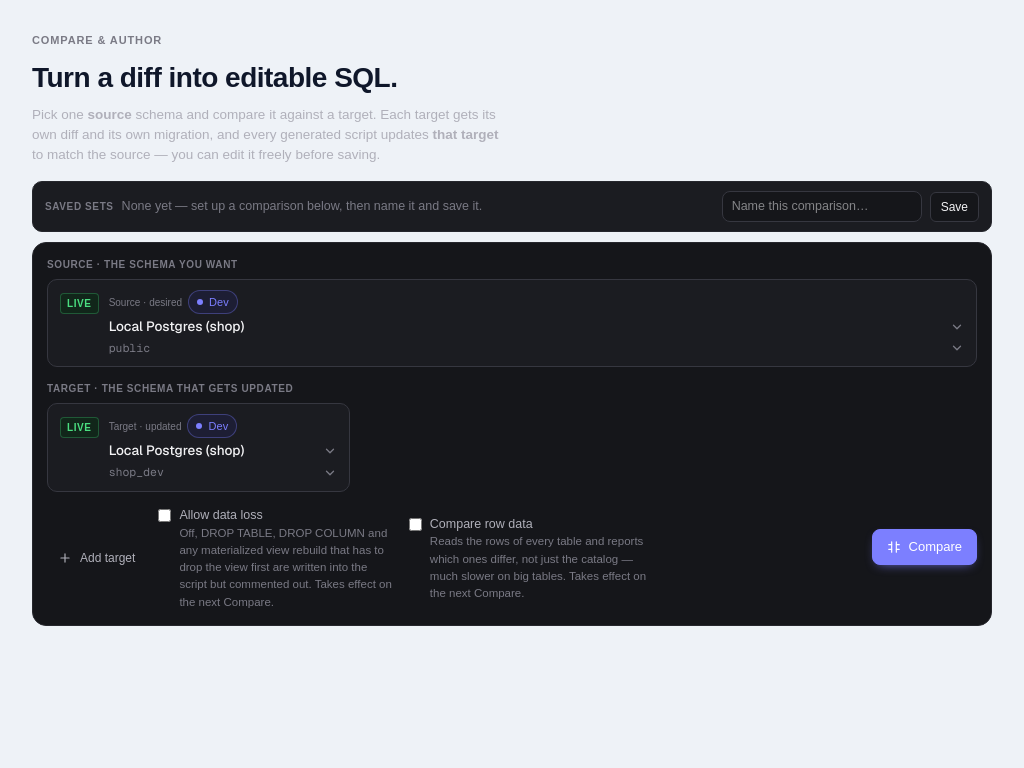
Test: the picker's schema list › ignores the list for a connection the reader has moved off
Click the dropdown named "Target · updated connection" at (223, 451), box [109,442,337,461]
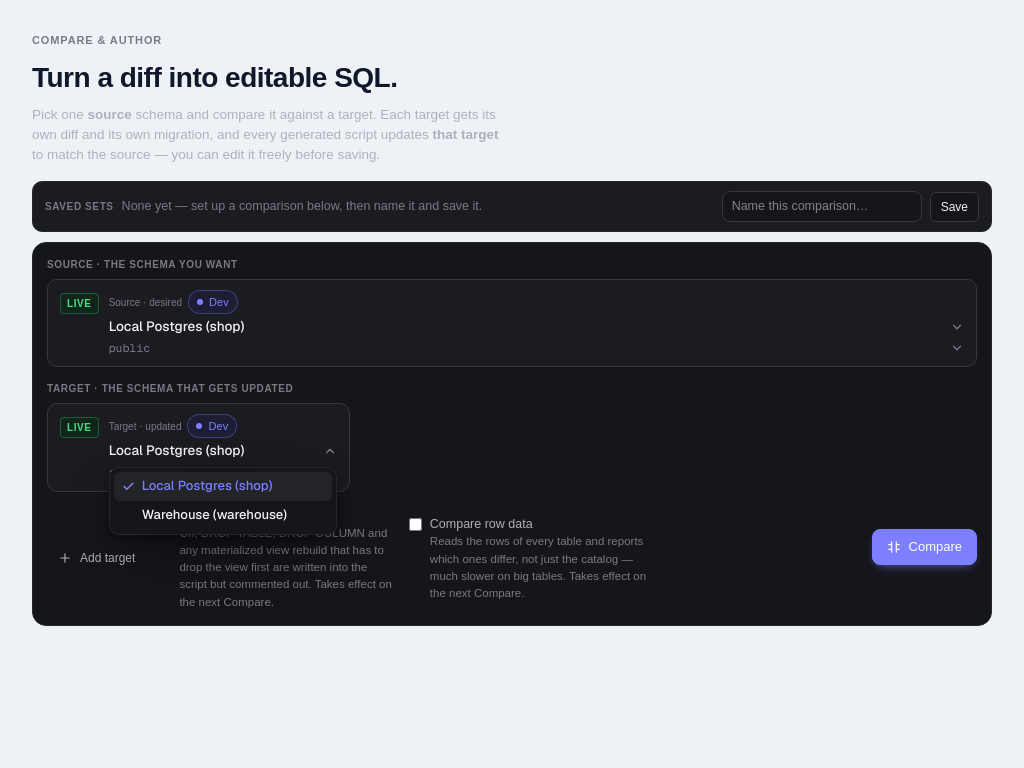
Click the option "Warehouse (warehouse)" at (214, 514), box [142,506,287,523]
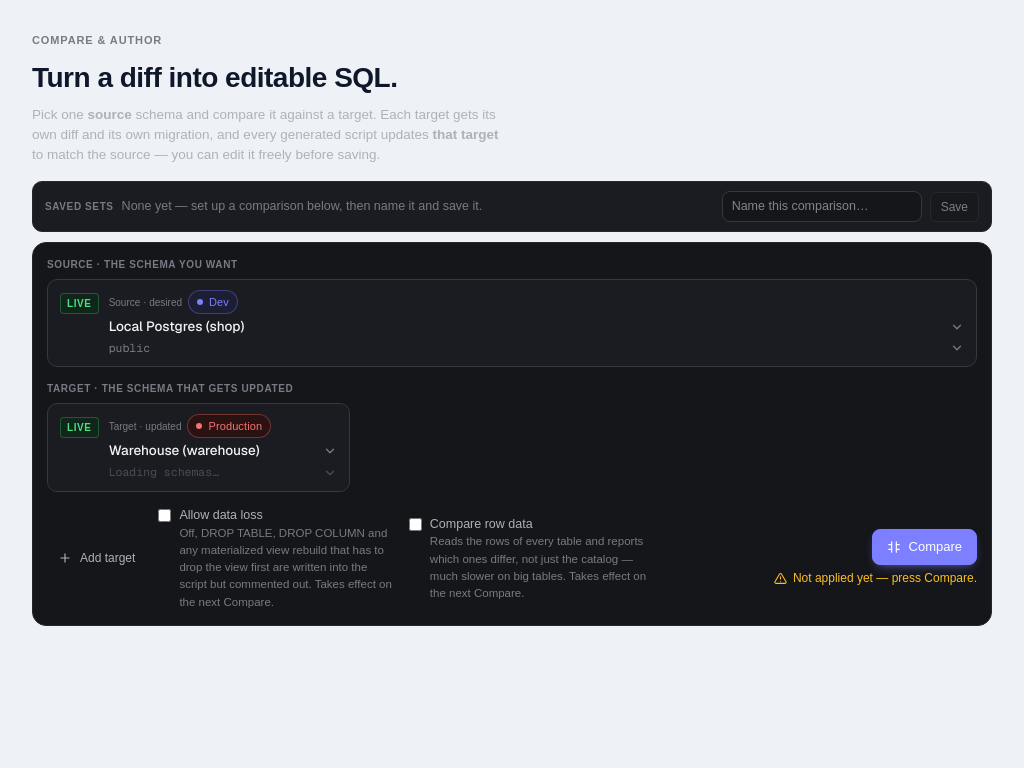
Click the dropdown named "Target · updated connection" at (223, 451), box [109,442,337,461]
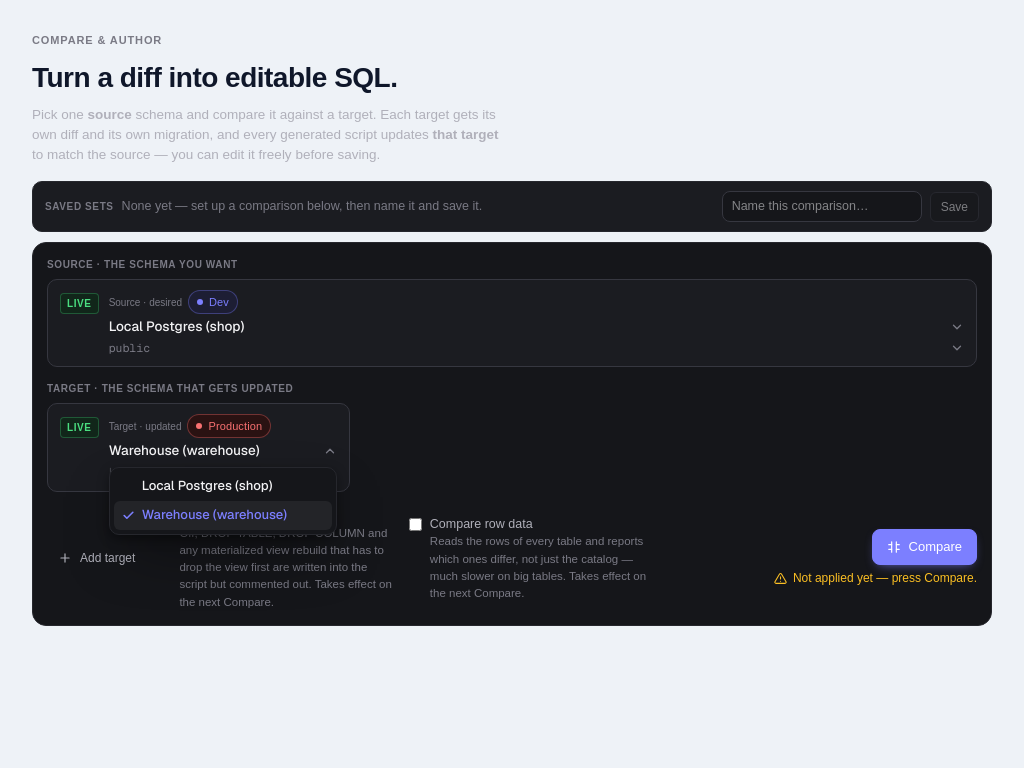
Click the option "Local Postgres (shop)" at (207, 486), box [142,477,272,494]
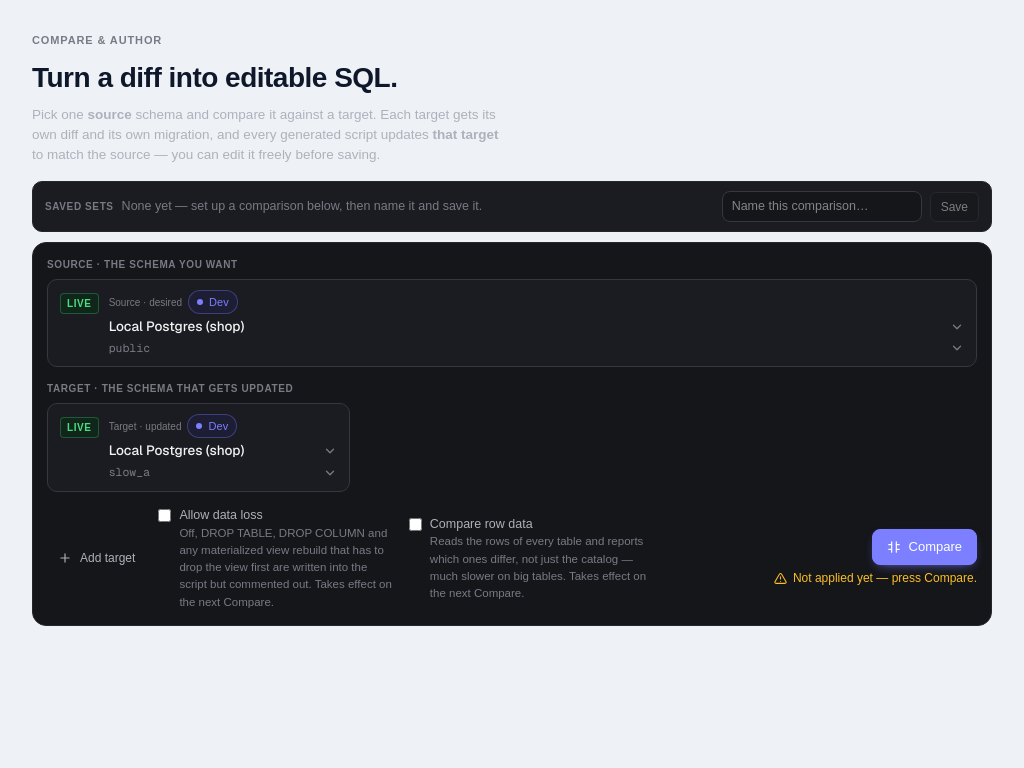
Expected: the dropdown named "Target · updated schema" is enabled
Click the dropdown named "Target · updated schema" at (223, 472), box [109,464,337,481]
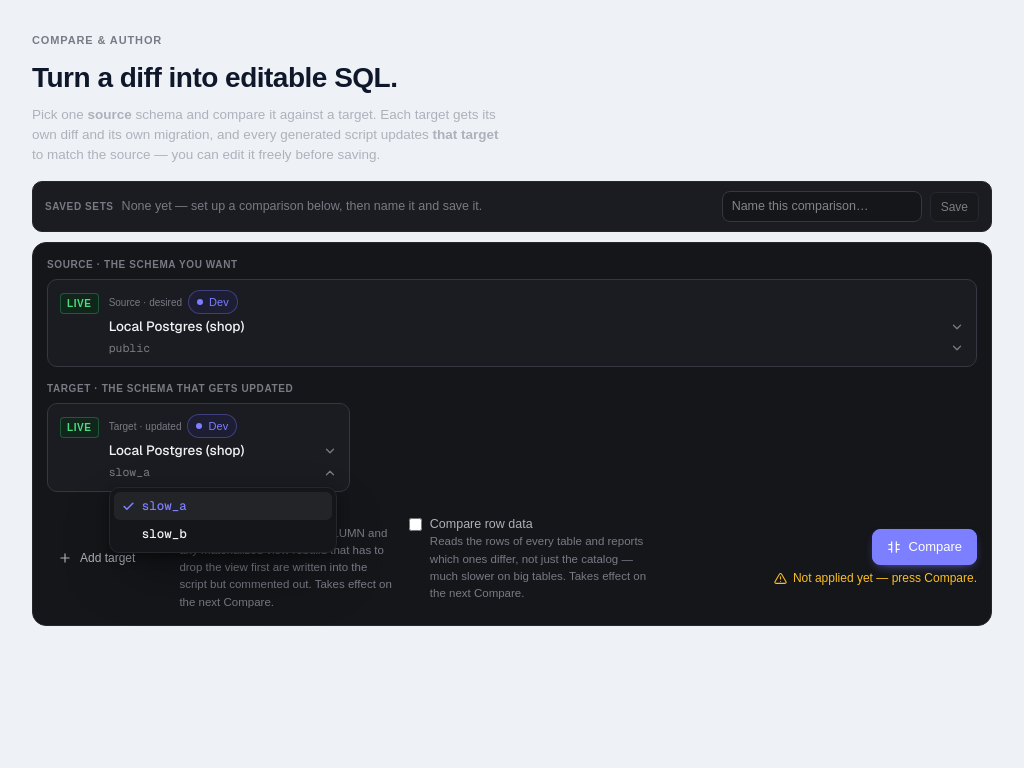
Expected: the options read "slow_a", "slow_b", in this order, [114,492,332,520]; [142,525,187,542]
